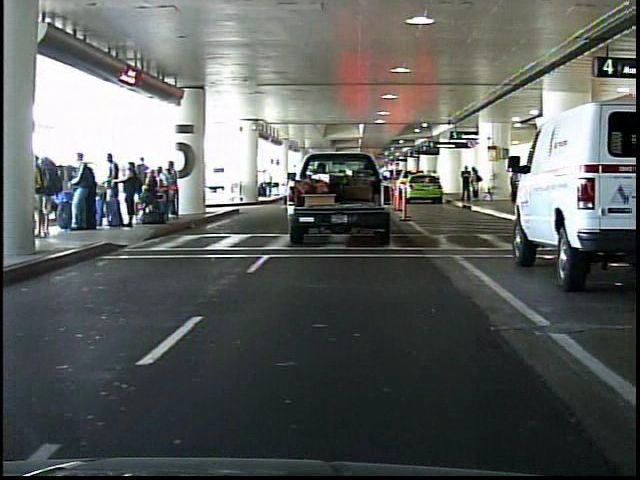person: (470, 165, 483, 203), (459, 165, 471, 203)
